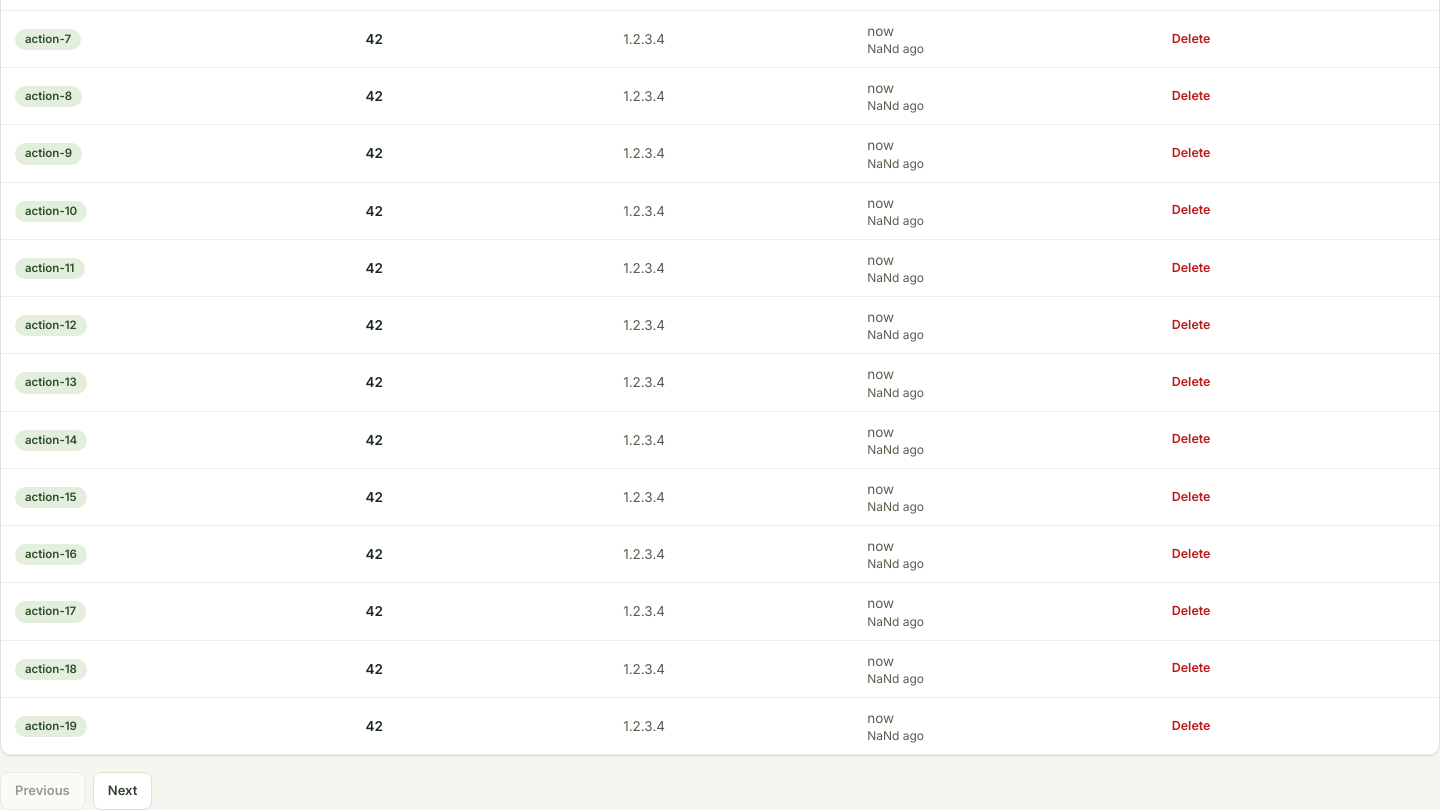
Test: AuditLogPage › requests the next page with an incremented offset
The width and height of the screenshot is (1440, 810).
(page scrolled)
Click the button "Next": x=123, y=791 top-left (93, 772), bottom-right (152, 809)
(page scrolled)
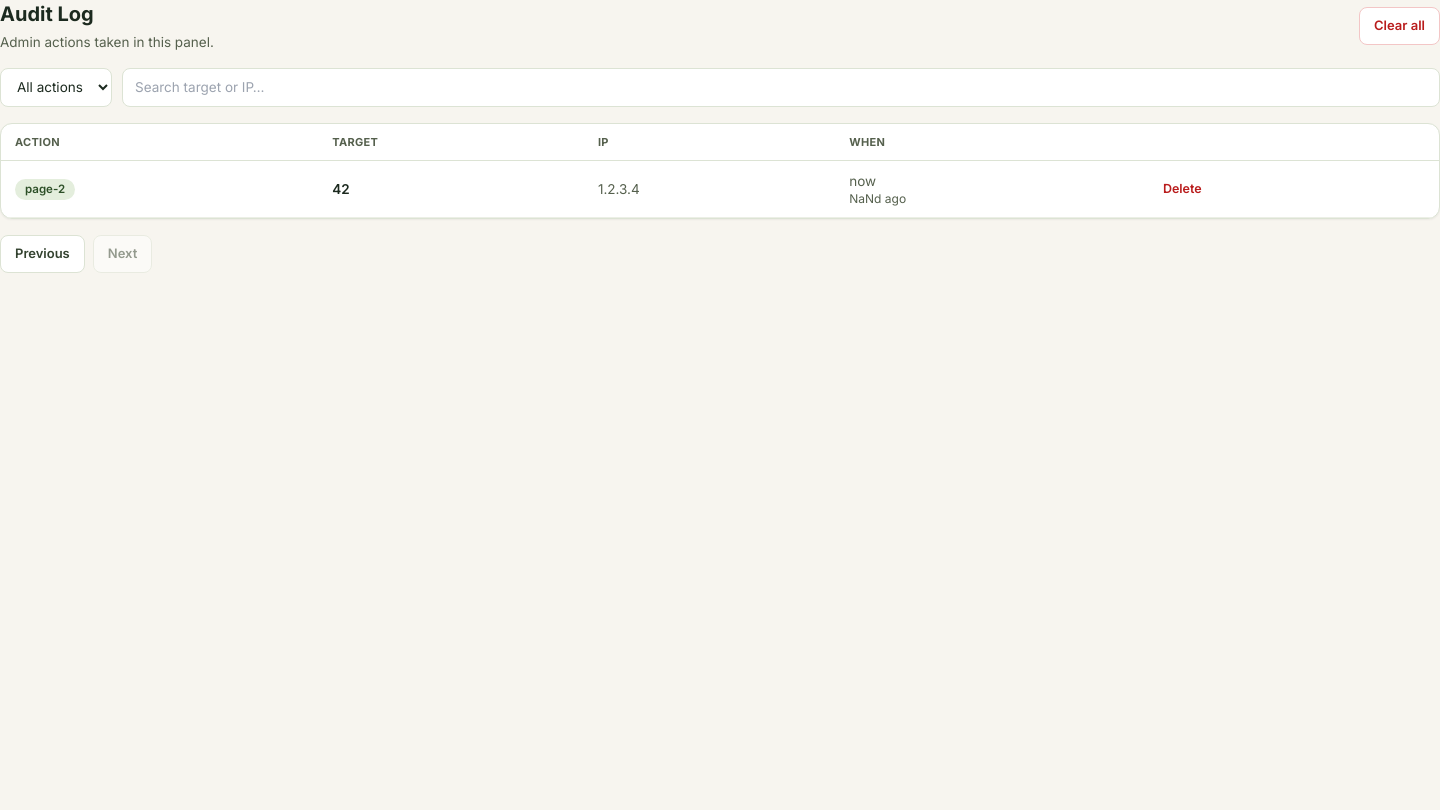
Result: the text "page-2" is shown at top-left (15, 179), bottom-right (75, 200)
